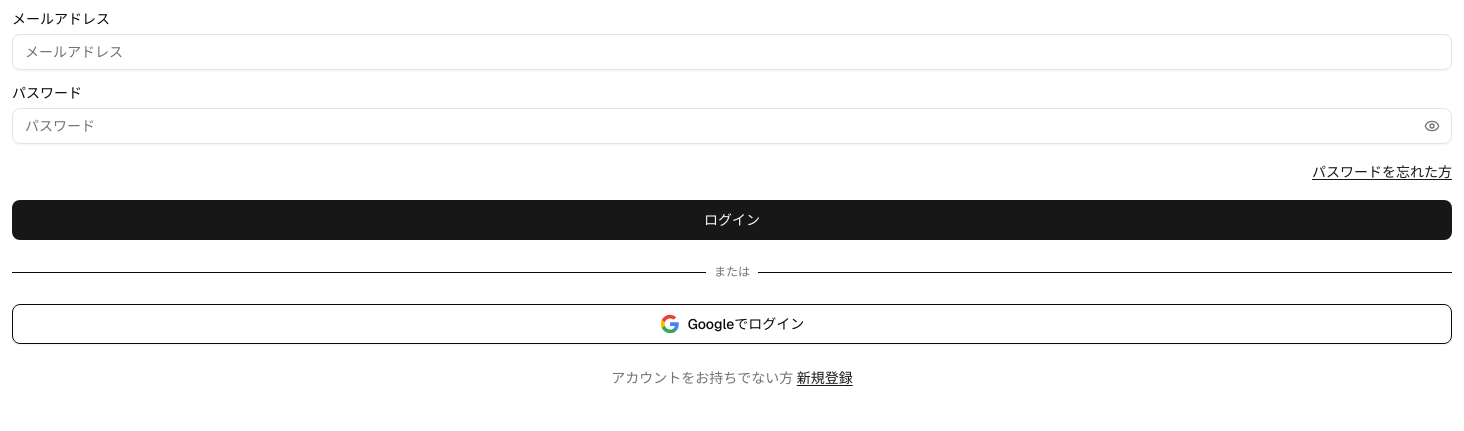
Test: LoginForm › バリデーション › 8文字未満のパスワードでエラーメッセージが表示される
Type "test@example.com" into the field with placeholder "メールアドレス". click: (732,52)
box: [12, 34, 1452, 70]
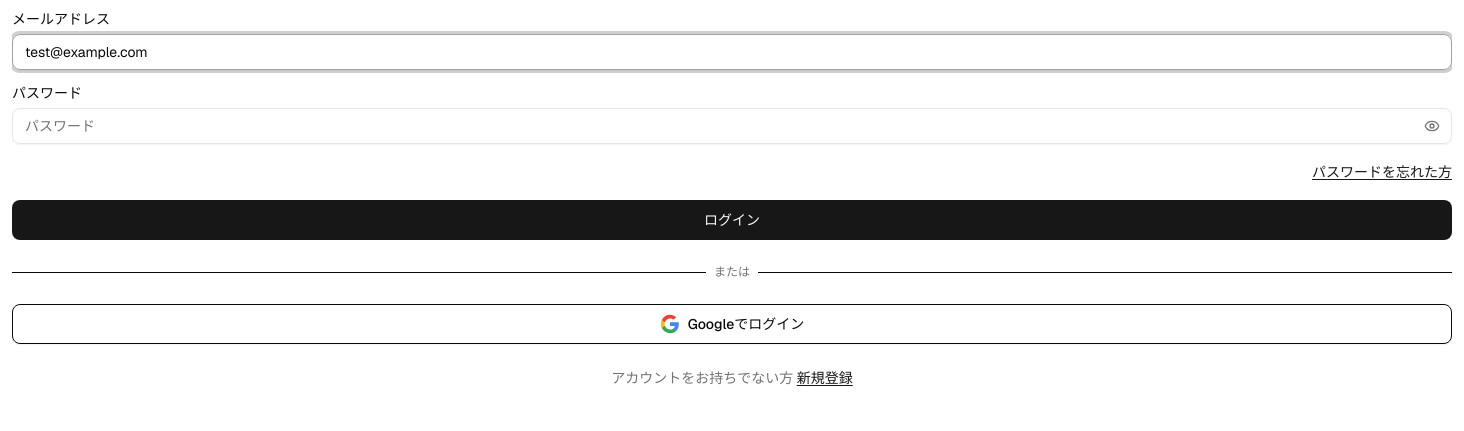
Type "short" into the password field with placeholder "パスワード". click: (732,126)
box: [12, 108, 1452, 144]
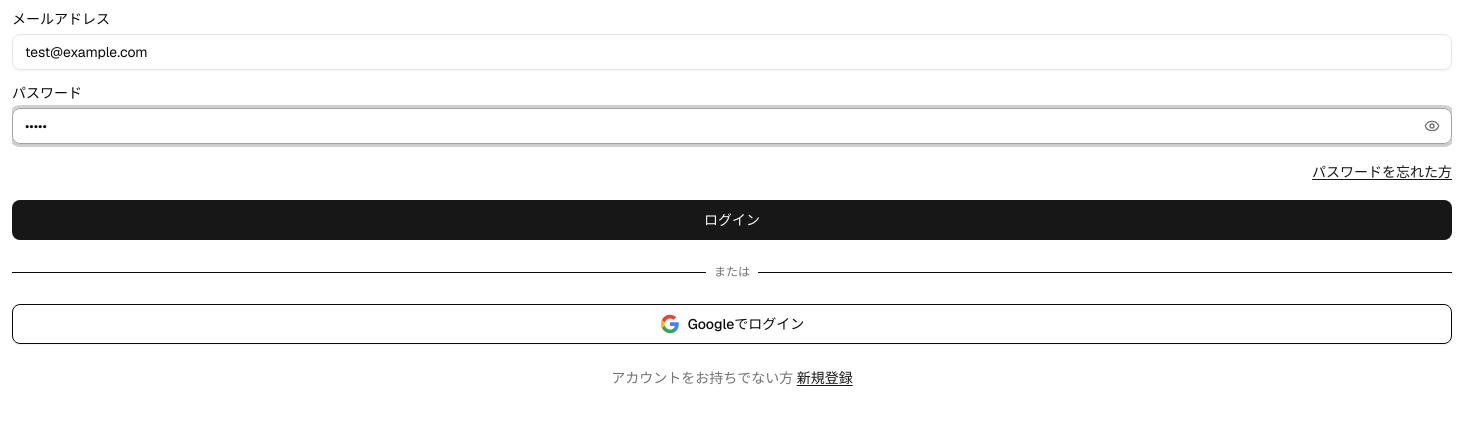
Click the button "ログイン". click: (732,220)
box: [12, 200, 1452, 240]
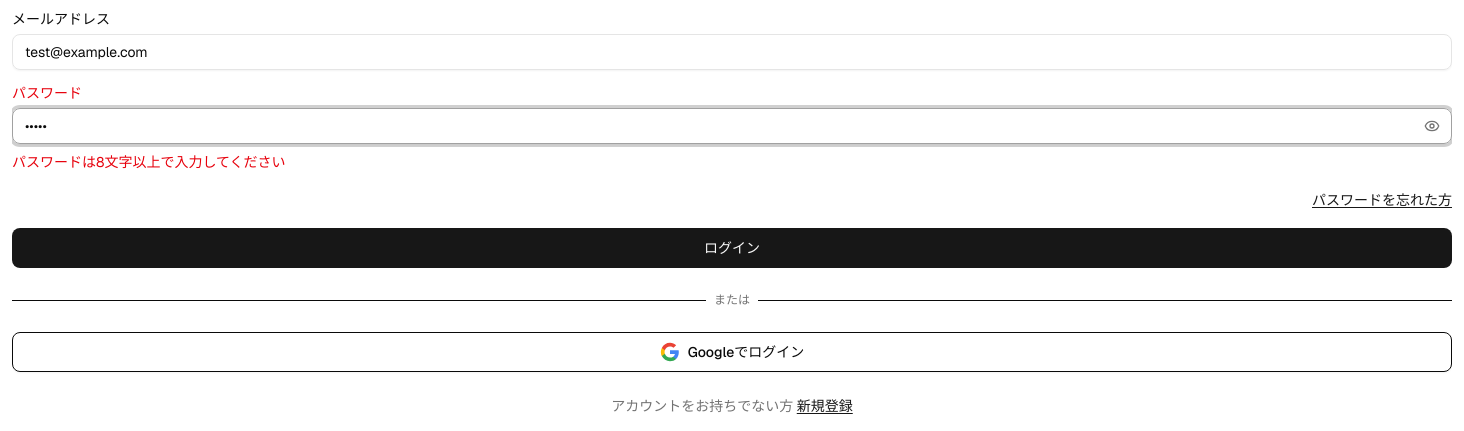
Now the text "パスワードは8文字以上で入力してください" is shown, box [12, 153, 286, 171]
